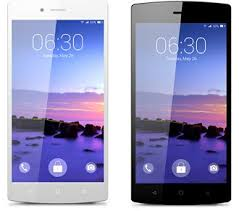bphone: (126, 1, 234, 205), (4, 1, 112, 204)
